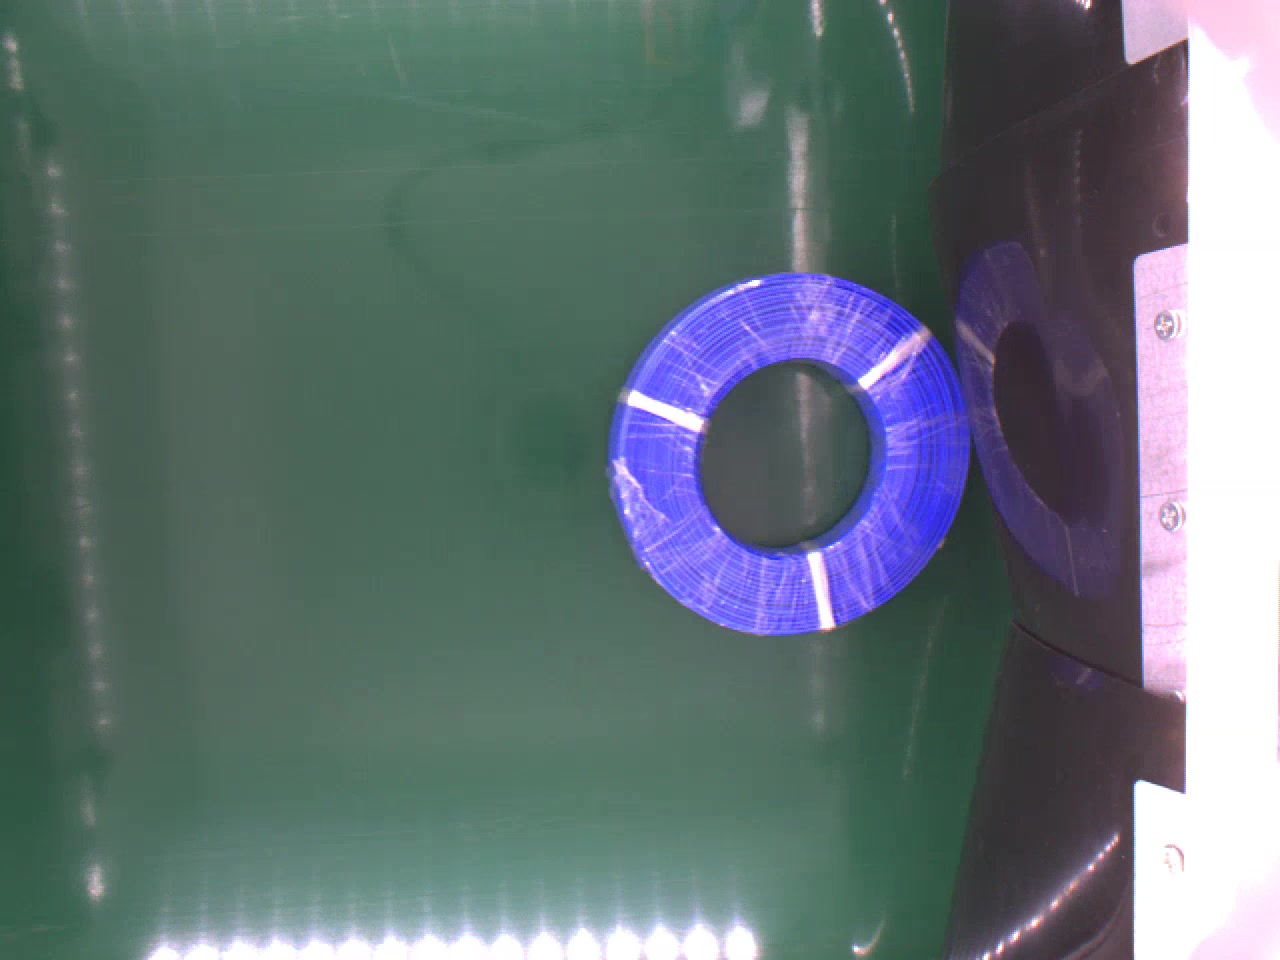blue: (614, 262, 972, 632)
